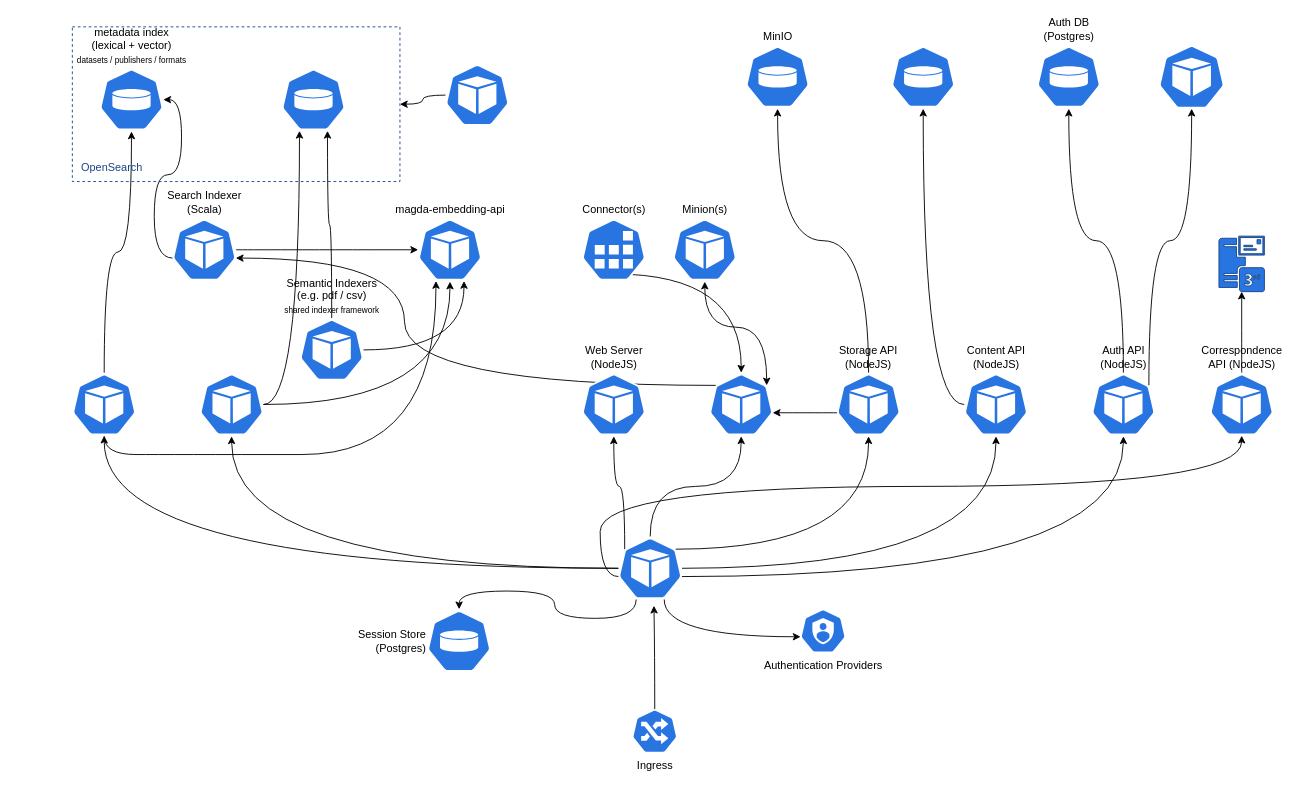
The diagram is 1298 pixels wide and 787 high, and some of its shapes have lost their labels. The centre of each missing label's shape, as x and y in pixels:
"Content DB (Postgres)" belongs at (922,76).
"Gateway (NodeJS)" belongs at (649,568).
"Open Policy Agent" belongs at (1191,76).
"OpenSearch Dashboards" belongs at (477,94).
"Registry API (Scala)" belongs at (740,404).
"Search API (Scala)" belongs at (103,404).
"semantic index (semantic-index-v1) knn_vector 768d" belongs at (313,99).
"semantic-search-api (NodeJS)" belongs at (231,404).
"SMTP" belongs at (1241,263).
